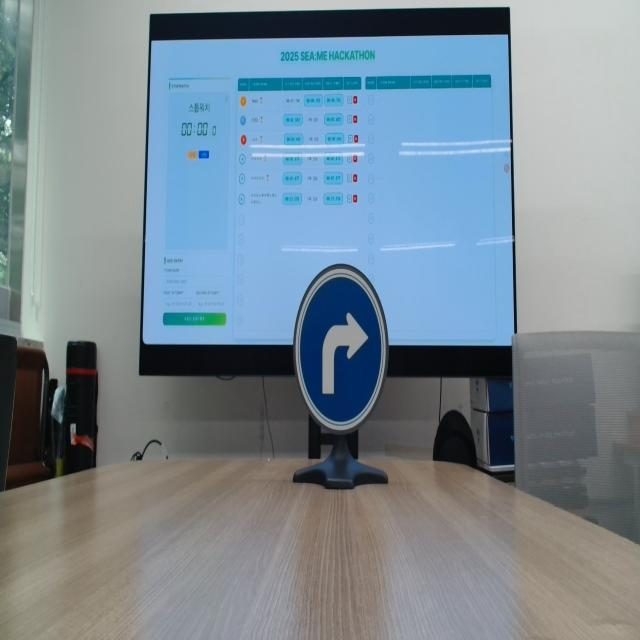right_dierection: (291, 262, 390, 433)
